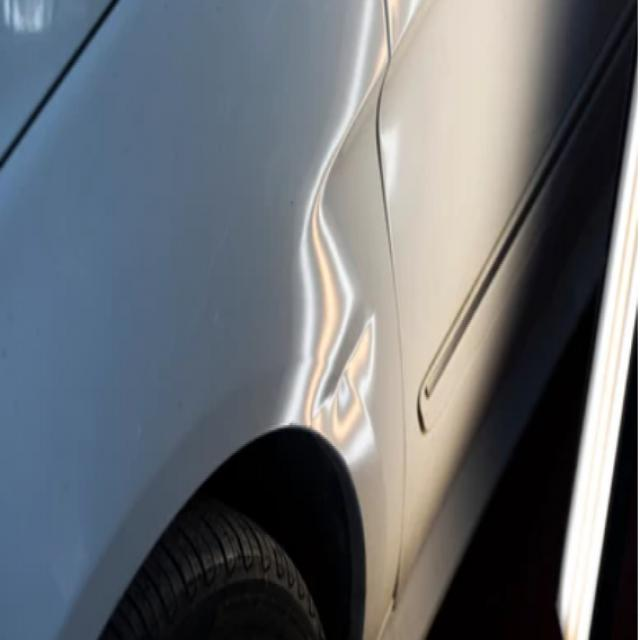dents: (309, 58, 407, 428)
